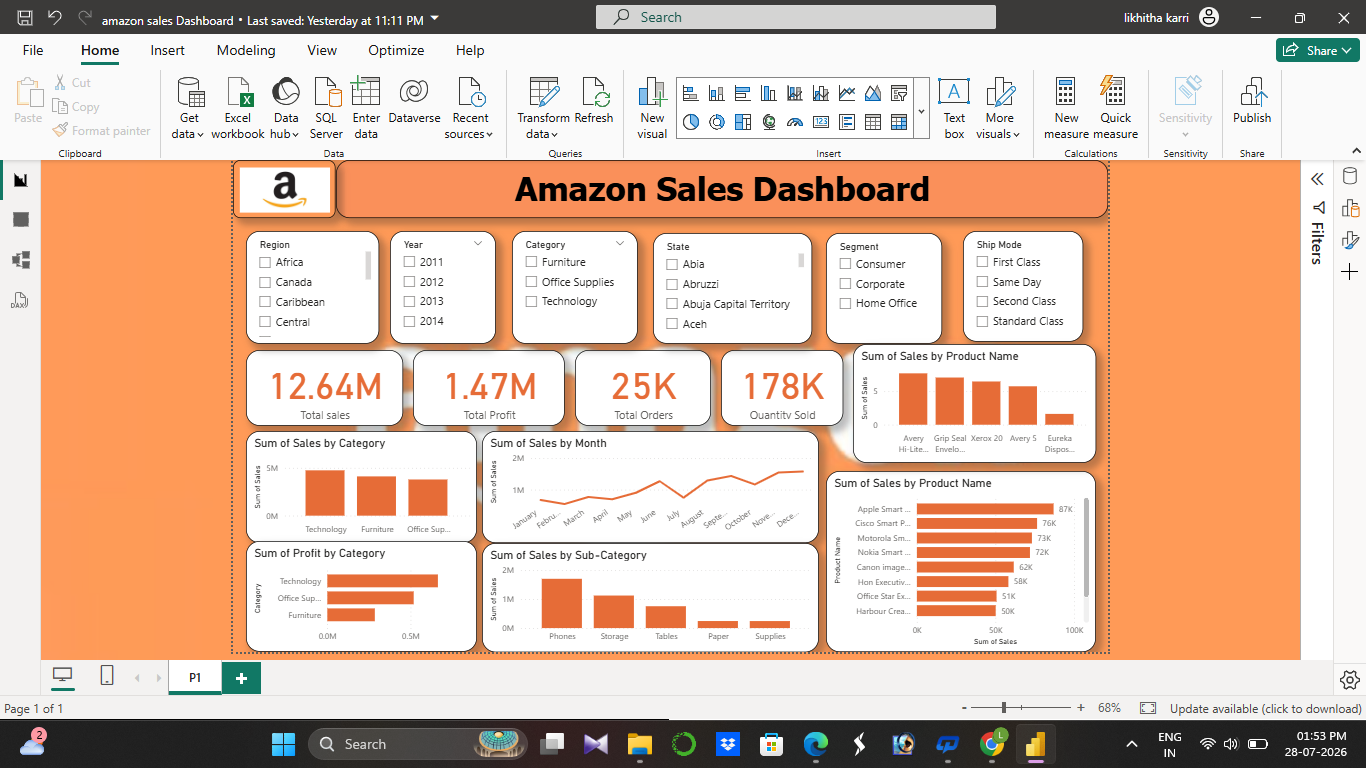

What the dashboard file says about the page in this screenshot:
{"tool":"powerbi","page":{"name":"P1","canvas":[1280,720],"ordinal":0},"visuals":[{"type":"textbox","box":[150,0,1129.7,85.1],"z":0},{"type":"image","box":[0,0,150,85.1],"z":1000},{"type":"card","fields":{"Values":["Orders.Total sales"]},"box":[19,278,229.8,111.2],"z":2000},{"type":"card","fields":{"Values":["Orders.Total Profit"]},"box":[263.4,278,222.4,111.2],"z":3000},{"type":"card","fields":{"Values":["Orders.Total Orders"]},"box":[500.5,278,199,111.2],"z":4000},{"type":"card","fields":{"Values":["Orders.Quantity Sold"]},"box":[714.1,278,178.5,111.2],"z":5000},{"type":"clusteredColumnChart","fields":{"Category":["Orders.Category"],"Y":["Sum(Orders.Sales)"]},"box":[19,396.6,338,163.9],"z":6000},{"type":"barChart","fields":{"Y":["Sum(Orders.Profit)"],"Category":["Orders.Category"]},"box":[19,557.6,338,162.4],"z":7000},{"type":"lineChart","fields":{"Y":["Sum(Orders.Sales)"],"Category":["Orders.Order Date.Variation.Date Hierarchy.Month"]},"box":[364.4,396.6,493.2,163.9],"z":8000},{"type":"slicer","fields":{"Values":["Orders.Region"]},"box":[19,103.9,194.6,165.4],"z":9000},{"type":"slicer","fields":{"Values":["Orders.Order Date.Variation.Date Hierarchy.Year"]},"box":[229.8,103.9,155.1,165.4],"z":10000},{"type":"slicer","fields":{"Values":["Orders.Category"]},"box":[408.3,103.9,184.4,165.4],"z":11000},{"type":"slicer","fields":{"Values":["Orders.State"]},"box":[614.6,106.8,232.7,162.4],"z":12000},{"type":"slicer","fields":{"Values":["Orders.Segment"]},"box":[867.8,106.8,169.8,162.4],"z":13000},{"type":"slicer","fields":{"Values":["Orders.Ship Mode"]},"box":[1068.3,103.9,175.6,162.4],"z":14000},{"type":"clusteredColumnChart","fields":{"Y":["Sum(Orders.Sales)"],"Category":["Orders.Sub-Category"]},"box":[364.4,560.5,493.2,159.5],"z":15000},{"type":"barChart","fields":{"Y":["Sum(Orders.Sales)"],"Category":["Orders.Product Name"]},"box":[867.8,455.1,395.1,264.9],"z":16000},{"type":"columnChart","fields":{"Y":["Sum(Orders.Sales)"],"Category":["Orders.Product Name"]},"box":[907.3,269.3,355.6,174.1],"z":17000}]}

Visuals, with their boxes on the page's 1280x720 design canvas (x1, y1, x2, y2). These are canvas units, not pixel positions in the 1366x768 screenshot, which may show the page scaled, cropped or inside an application window:
textbox: 150,0,1280,85
image: 0,0,150,85
card - Orders.Total sales: 19,278,249,389
card - Orders.Total Profit: 263,278,486,389
card - Orders.Total Orders: 500,278,700,389
card - Orders.Quantity Sold: 714,278,893,389
clusteredColumnChart - Orders.Category x Sum(Orders.Sales): 19,397,357,560
barChart - Sum(Orders.Profit) x Orders.Category: 19,558,357,720
lineChart - Sum(Orders.Sales) x Orders.Order Date.Variation.Date Hierarchy.Month: 364,397,858,560
slicer - Orders.Region: 19,104,214,269
slicer - Orders.Order Date.Variation.Date Hierarchy.Year: 230,104,385,269
slicer - Orders.Category: 408,104,593,269
slicer - Orders.State: 615,107,847,269
slicer - Orders.Segment: 868,107,1038,269
slicer - Orders.Ship Mode: 1068,104,1244,266
clusteredColumnChart - Sum(Orders.Sales) x Orders.Sub-Category: 364,560,858,720
barChart - Sum(Orders.Sales) x Orders.Product Name: 868,455,1263,720
columnChart - Sum(Orders.Sales) x Orders.Product Name: 907,269,1263,443
